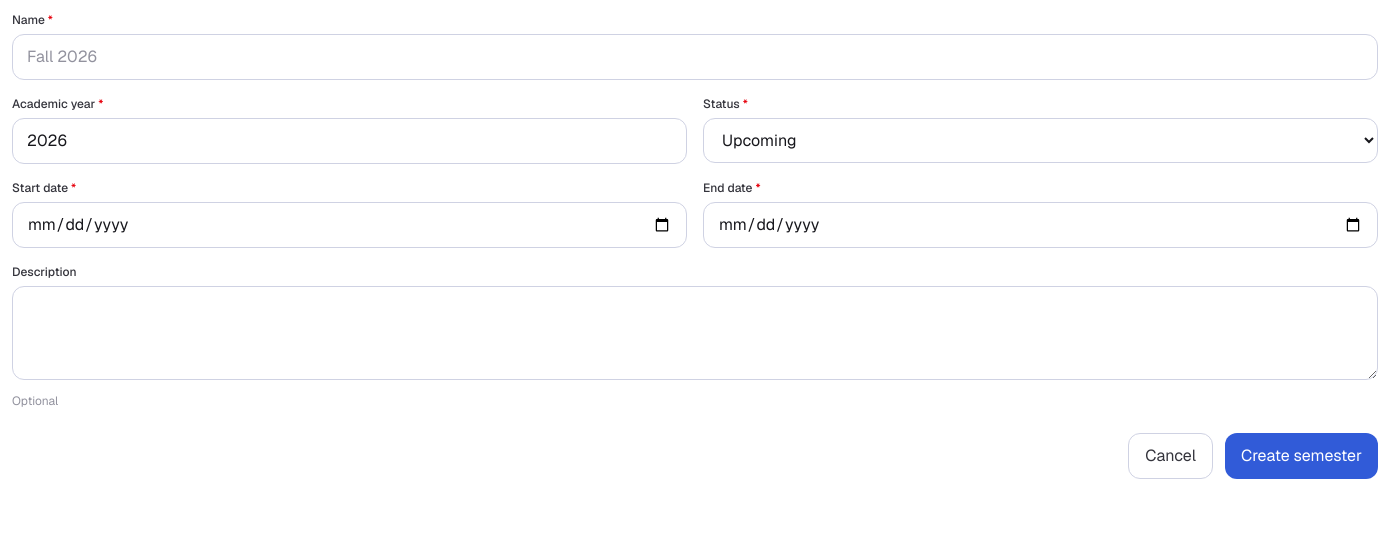
SemesterForm › blocks submission and shows field errors when required fields are missing
What coordinates should you click on to do the following:
click the button "Create semester"
I would click on:
 (1302, 456)
Its box is [1225,433,1378,479].
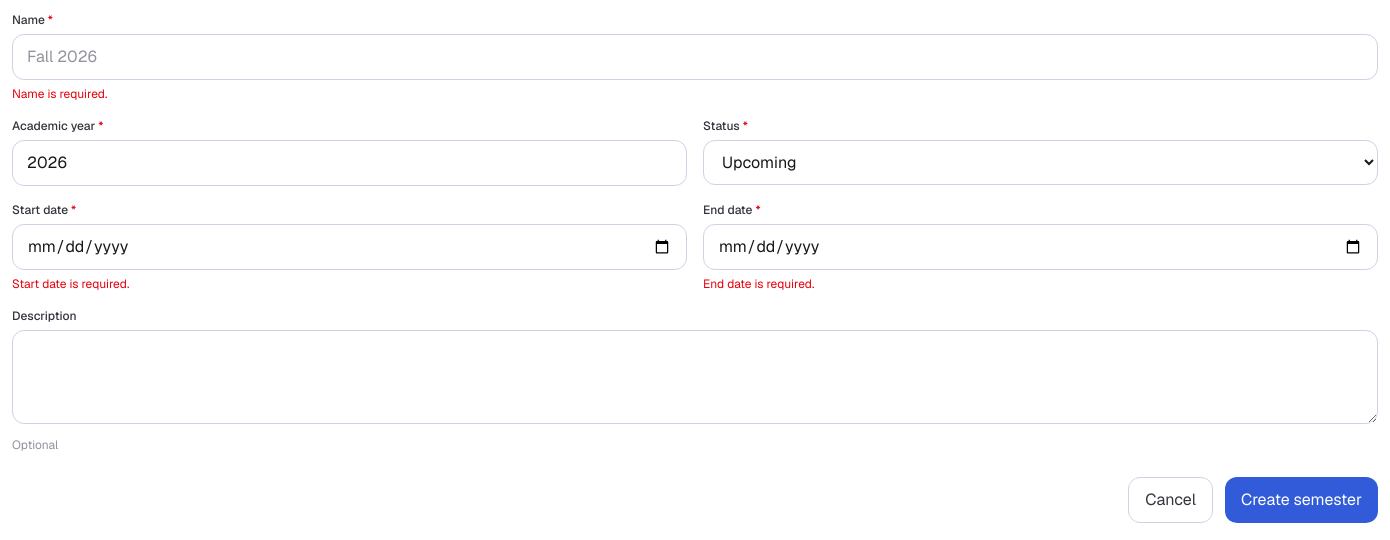
Now the text "Name is required." is shown, box [12,86,107,102]
Now the text "Start date is required." is shown, box [12,276,129,292]
Now the text "End date is required." is shown, box [703,276,814,292]
